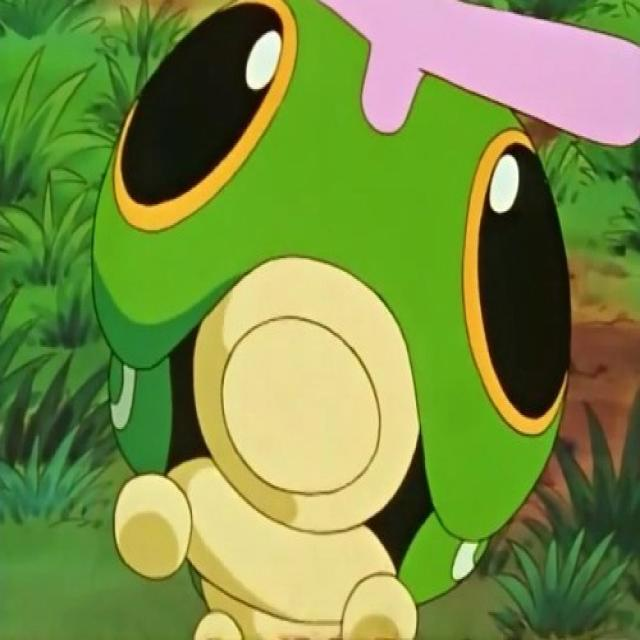Caterpie: (91, 5, 588, 635)
